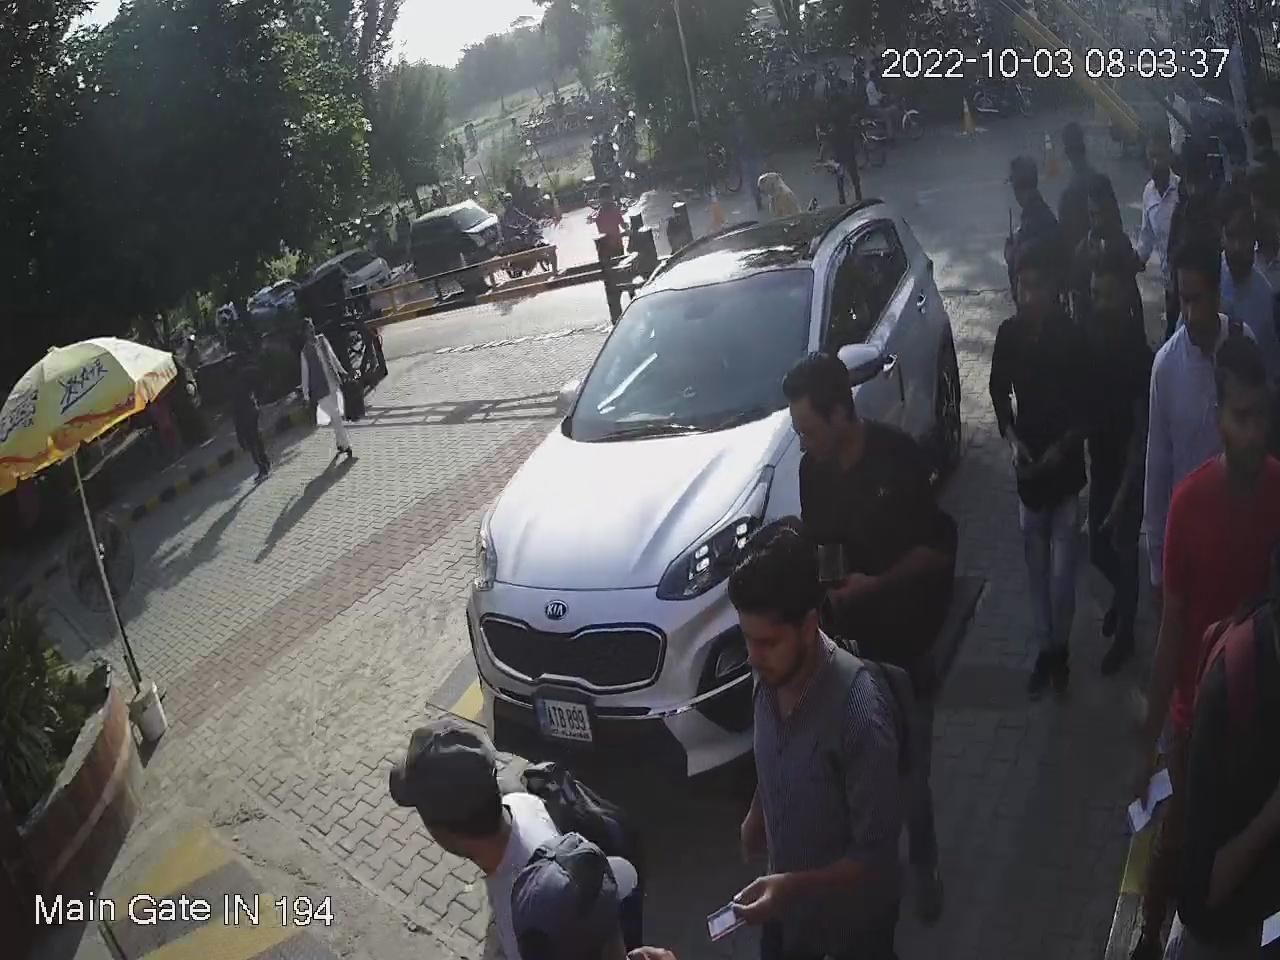windshield: (555, 260, 811, 425)
